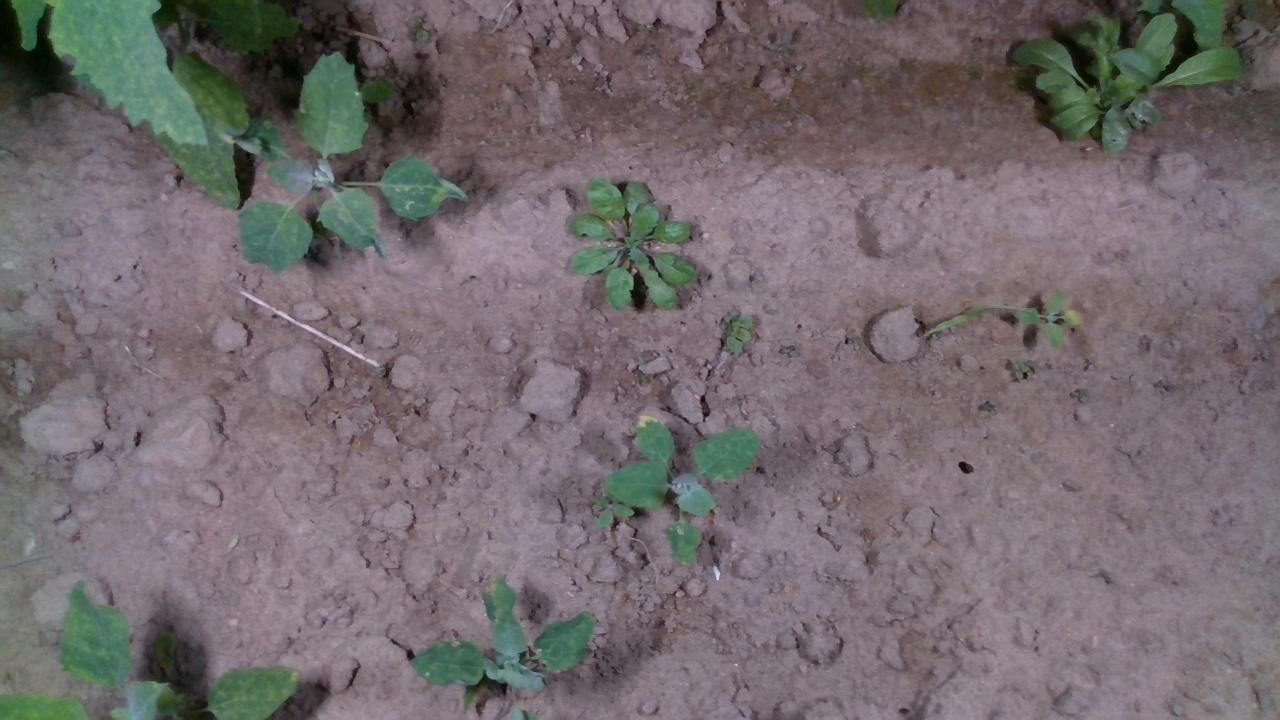weed: (717, 309, 749, 357), (1009, 357, 1029, 380)
